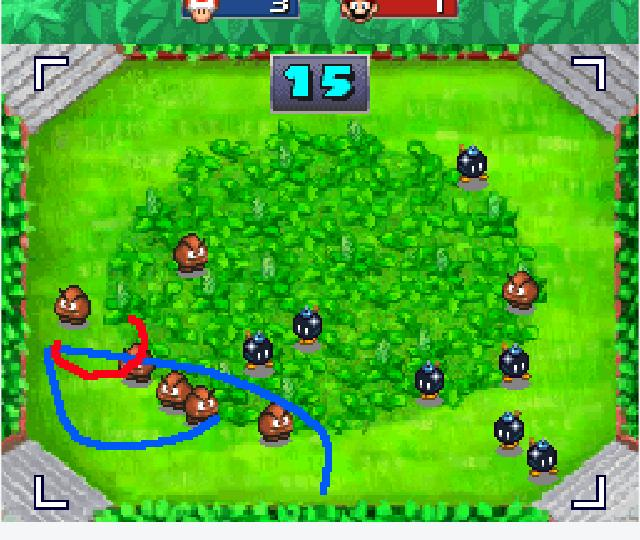bomb: (235, 325, 282, 382), (405, 352, 448, 412), (493, 340, 537, 387), (454, 141, 492, 195), (290, 303, 327, 353), (522, 434, 562, 480), (490, 410, 528, 458)
goomba: (495, 268, 542, 319), (168, 231, 215, 279), (252, 400, 298, 448), (180, 385, 226, 432), (54, 281, 95, 331), (117, 337, 155, 389), (154, 366, 192, 414)
